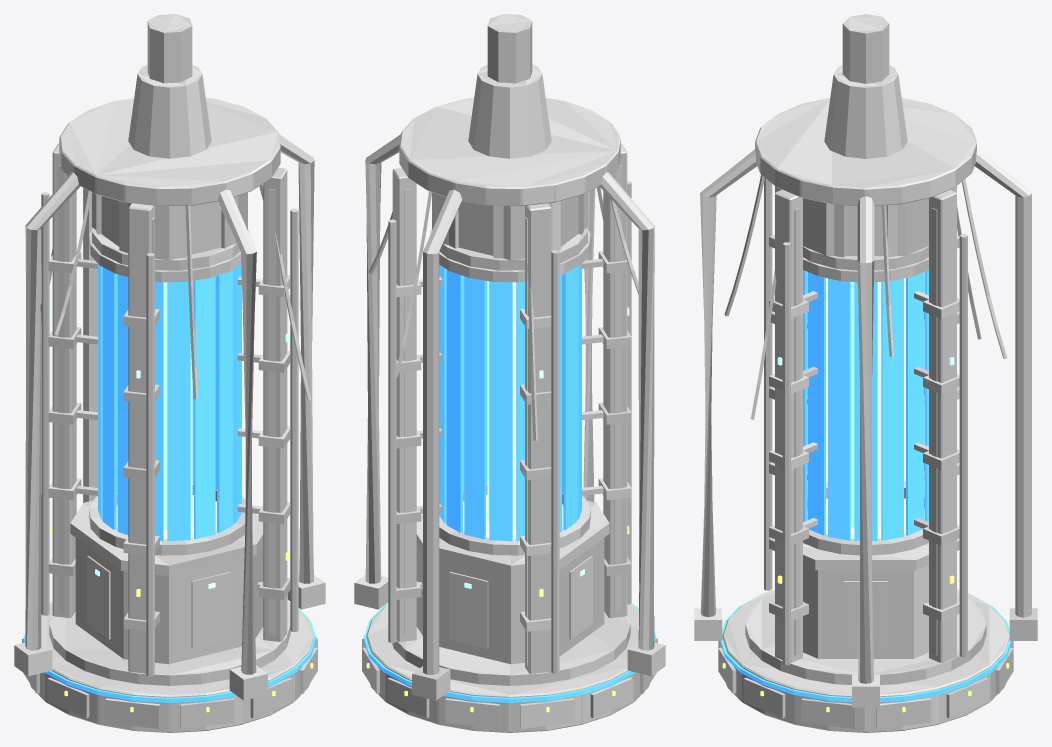
The model's file is Reactor_Column.fbx.
3 views of the same model, side by side, from view 1: azimuth 30°, elevation 25°; view 2: azimuth 150°, elevation 25°; view 3: azimuth 270°, elevation 25° (orthographic).
Visible parts, largest first — view 1: Reactor_Column; view 2: Reactor_Column; view 3: Reactor_Column.
Boxes of the visible parts, x1=… form: Reactor_Column: x1=14, y1=14, x2=325, y2=732; Reactor_Column: x1=354, y1=14, x2=665, y2=732; Reactor_Column: x1=694, y1=14, x2=1037, y2=732.
Size of the model in its own units: 7.4 by 15.45 by 7.4.
